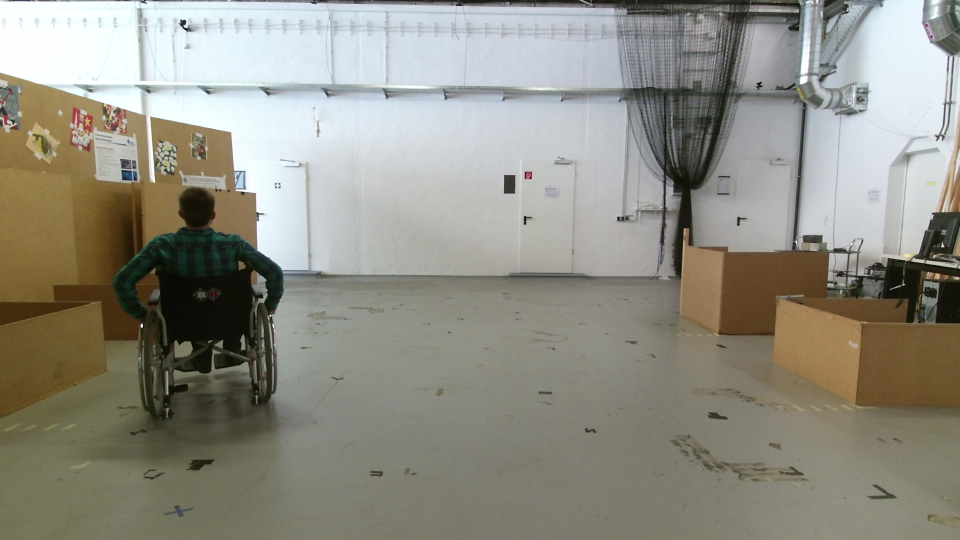wheelchair: (108, 178, 298, 441)
